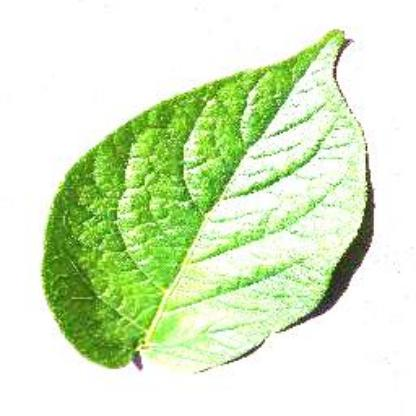Healthy-plant: (44, 27, 400, 415)
